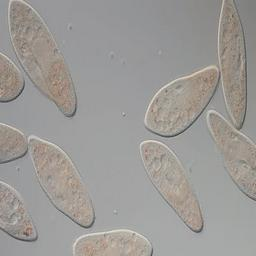Paramecium: (7, 2, 77, 116), (28, 136, 96, 229), (140, 139, 205, 232), (144, 65, 219, 137), (217, 2, 248, 130)
